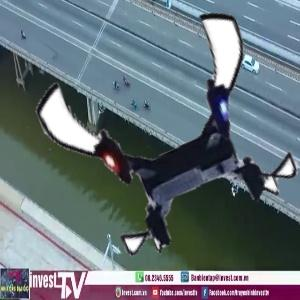drone: (54, 24, 280, 250)
